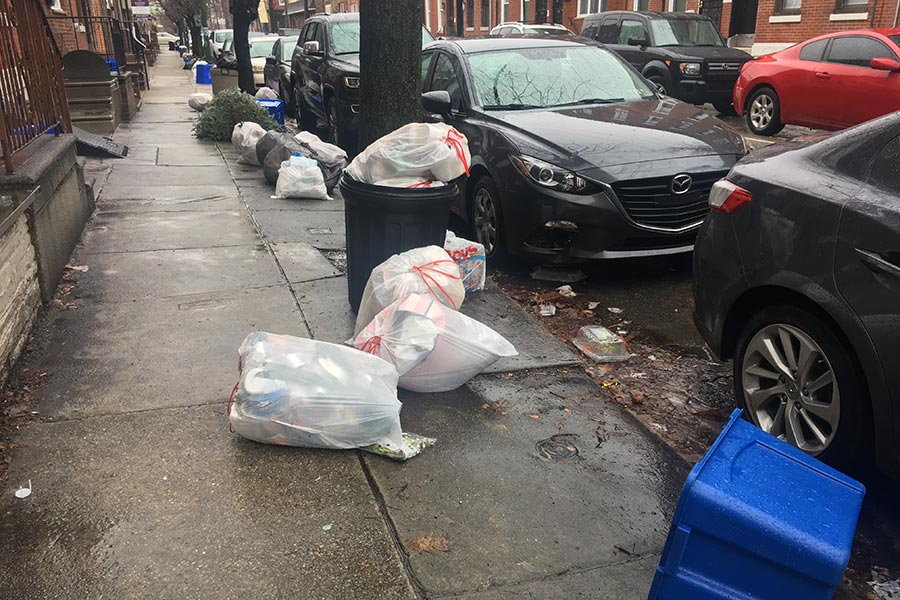trash: (211, 233, 498, 452), (347, 96, 478, 188), (222, 125, 361, 209)
